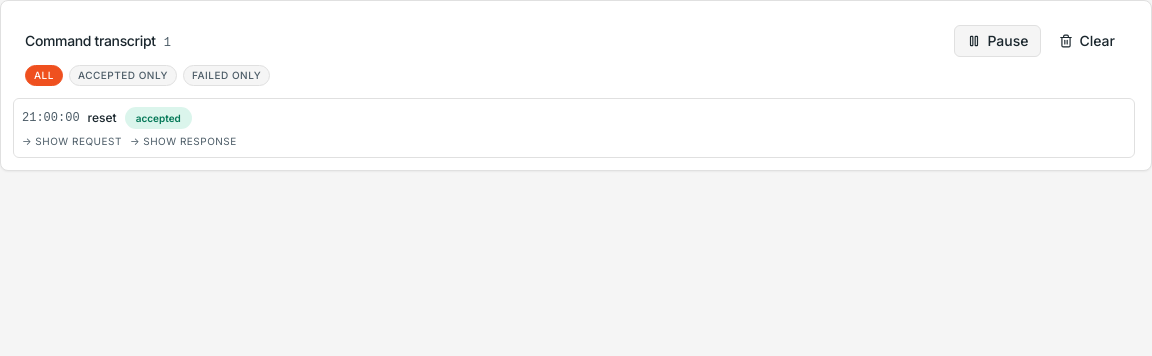
Test case: CommandTranscript › Show response renders a JSON block when the row has a response
The width and height of the screenshot is (1152, 356).
Click the button with test id "transcript-toggle-res".
click(183, 141)  # box x1=130 y1=133 x2=237 y2=149
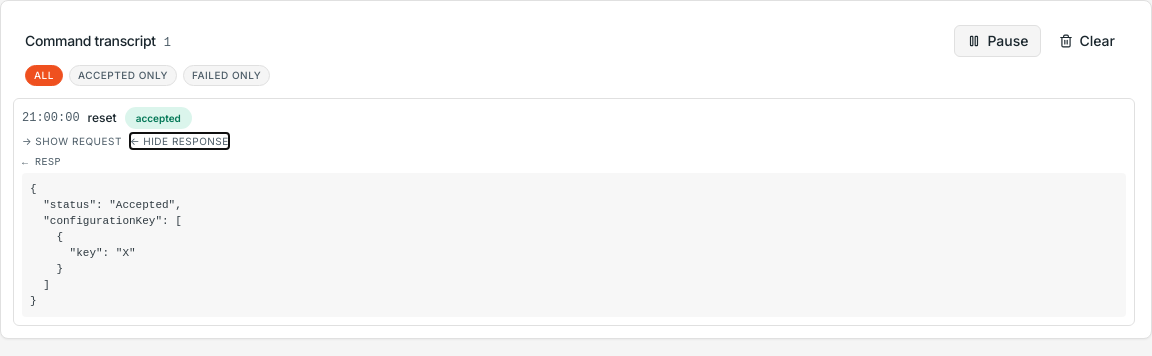
Expected: the text with test id "transcript-res-json" shows "configurationKey", x1=30 y1=183 x2=182 y2=307
